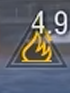1fire: (3, 40, 70, 71)
